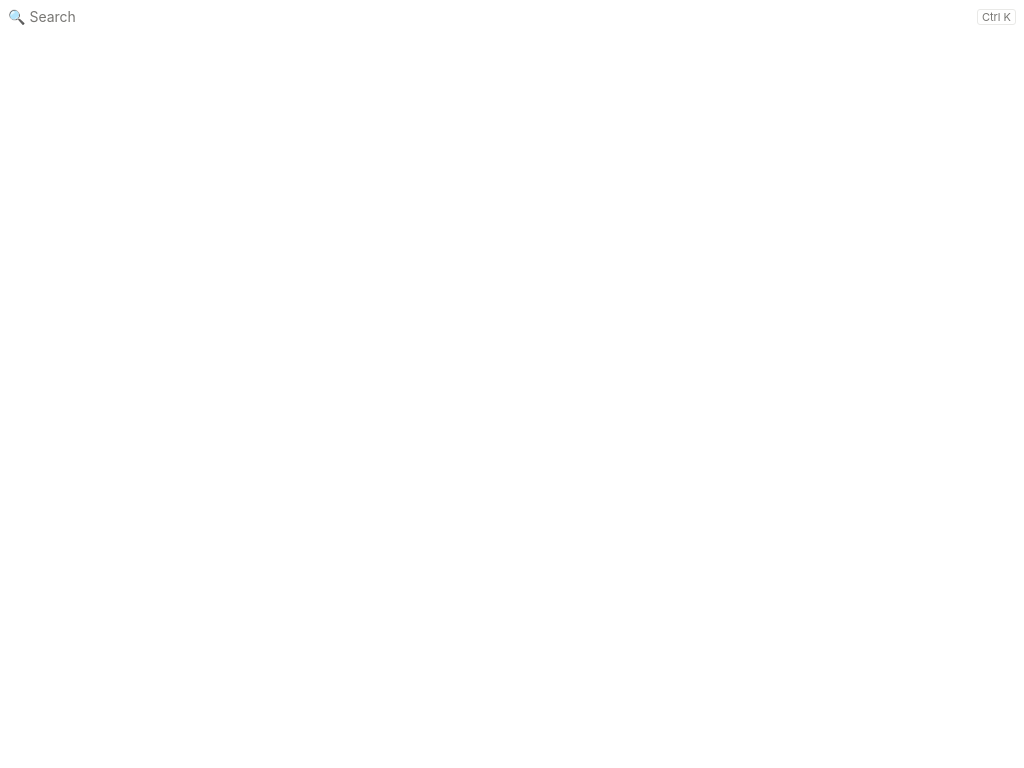
Test: SearchCommand › opens from the sidebar entry and toggles closed with Ctrl+K
Click the button "🔍 Search Ctrl K": (42, 16) [0,4,1023,29]
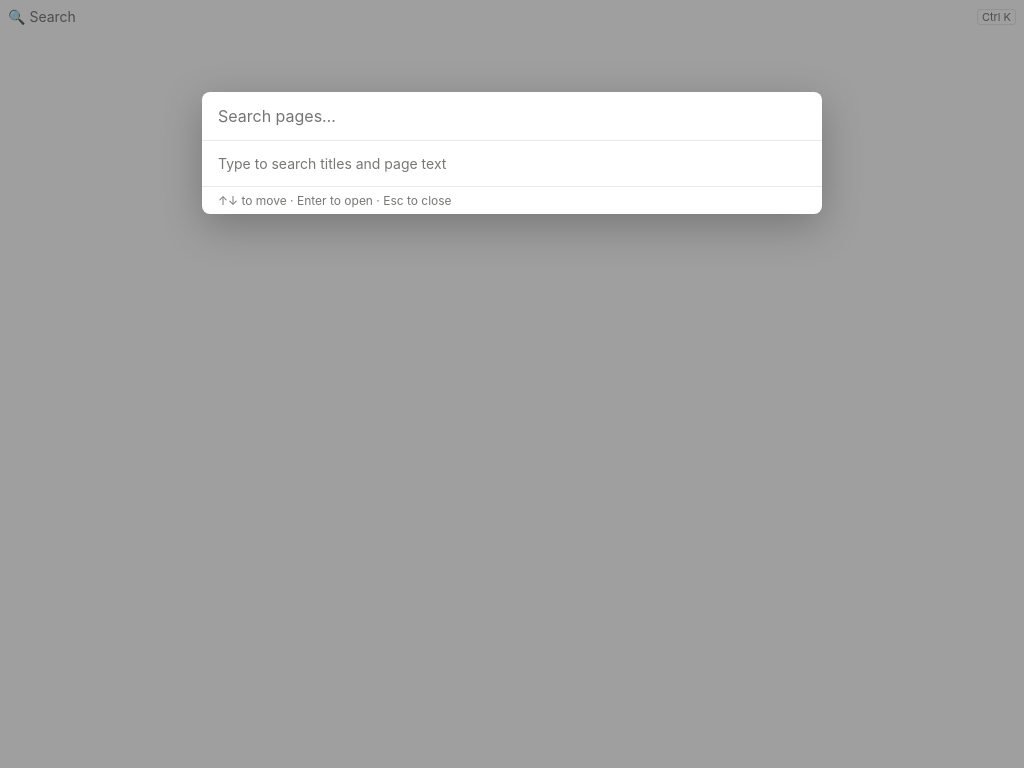
Expected: the dialog is shown, [202,92,822,214]
Press k in the dropdown, box [202,92,822,140]
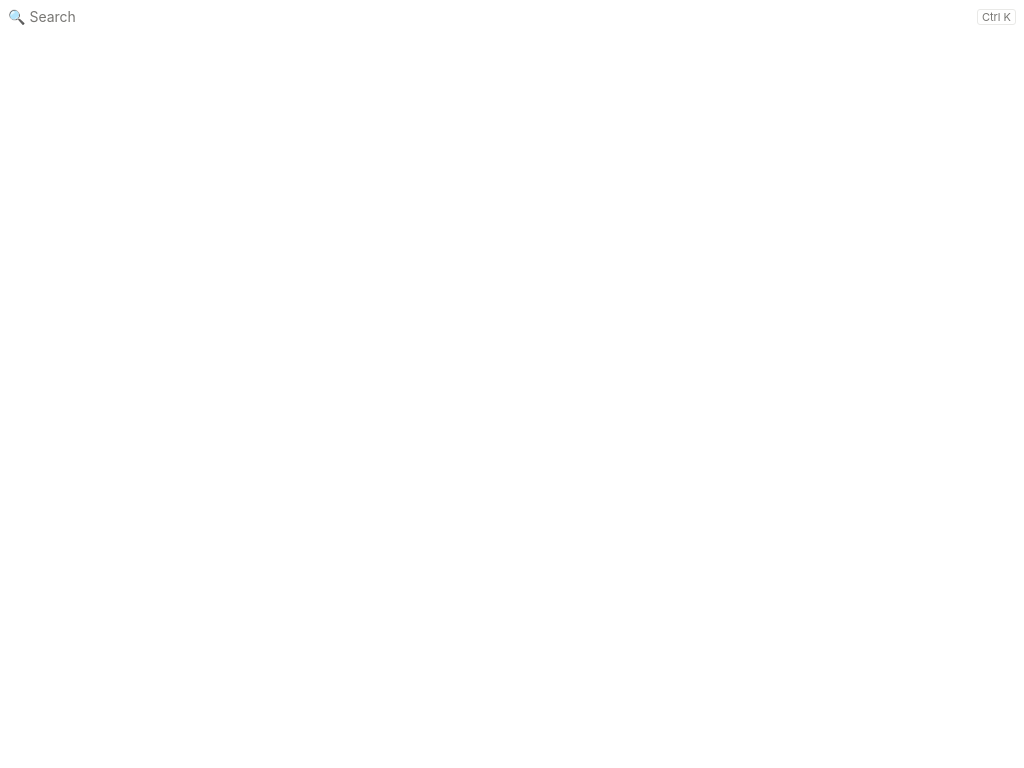
Expected: the dialog is gone
